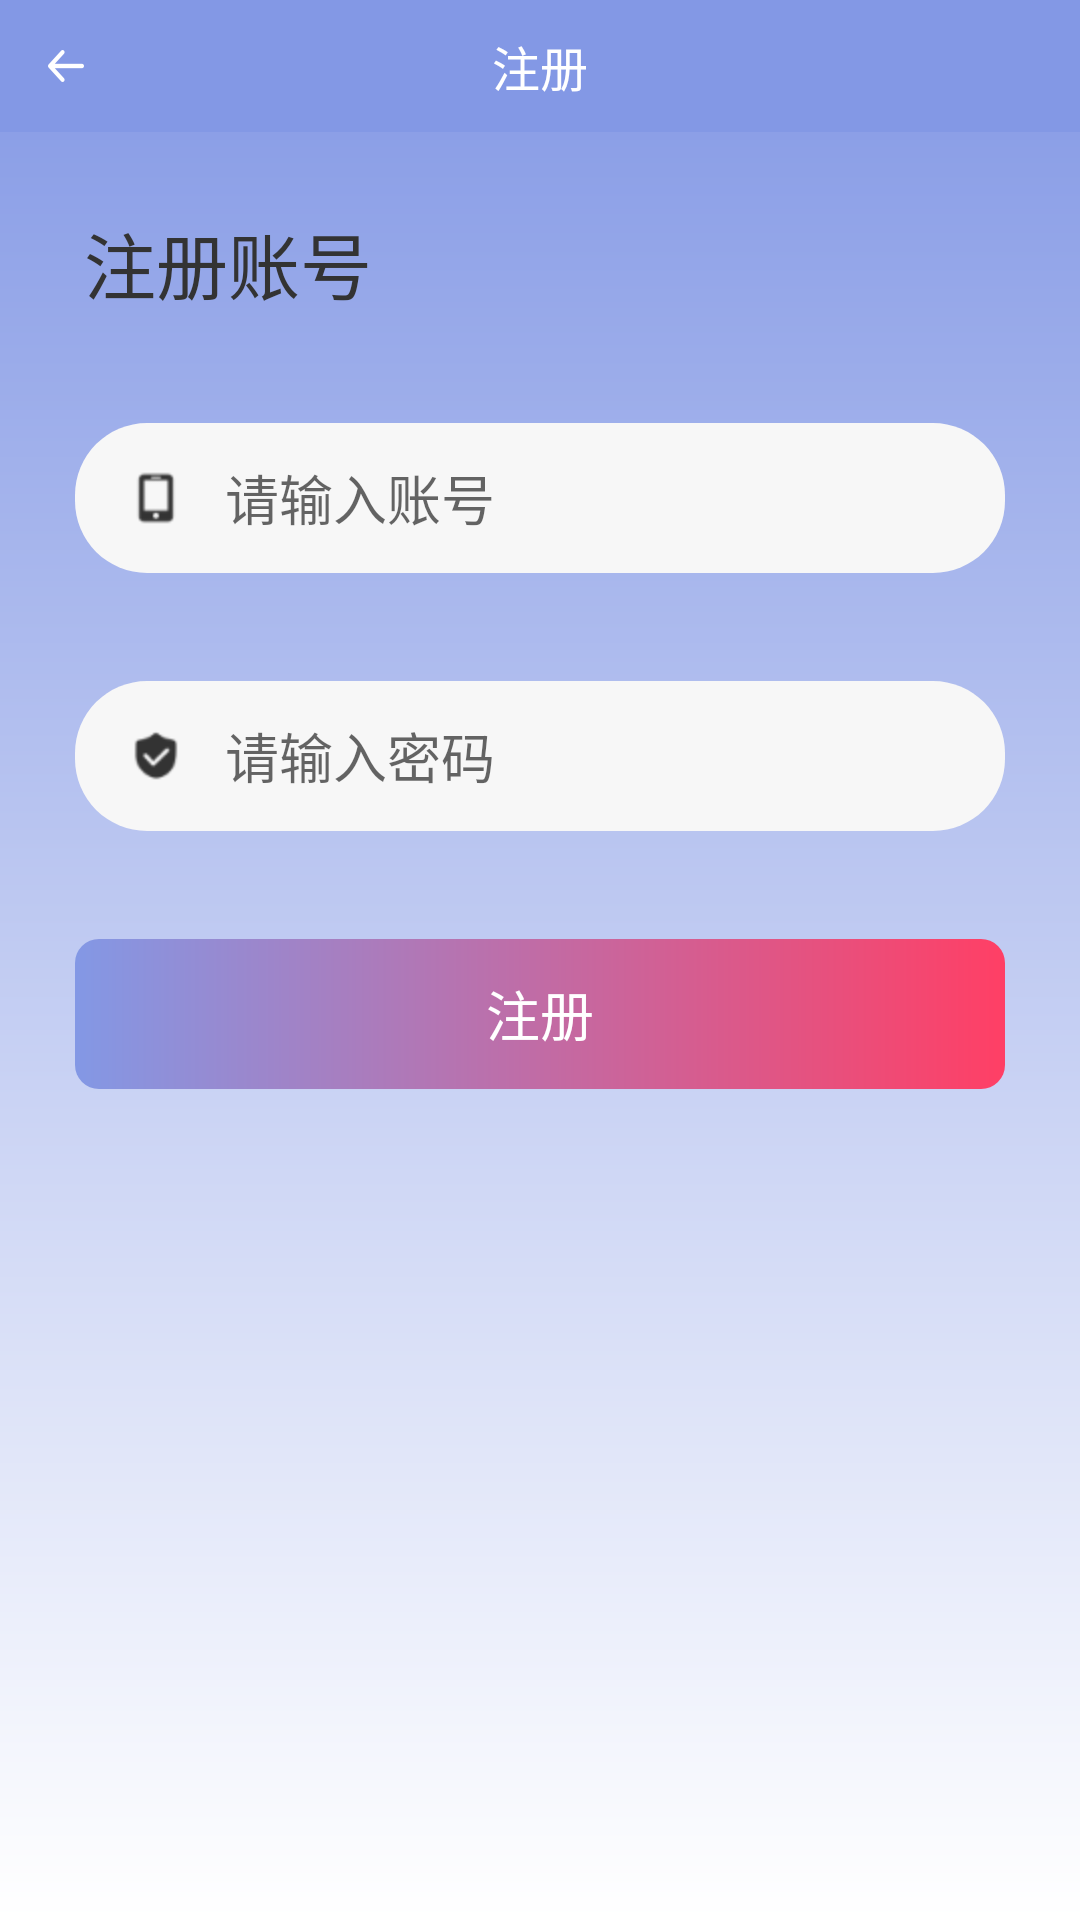

Named icons in this screenshot (1080×1920) and their bounding boxes, (x1, y1, x2, y2):
arrow back: (48, 50, 84, 82)
login username: (138, 473, 174, 523)
